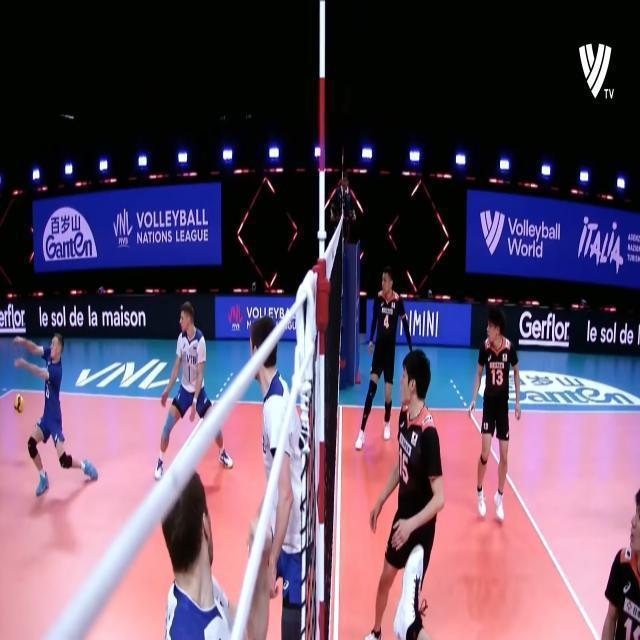volleyball: (13, 394, 24, 414)
